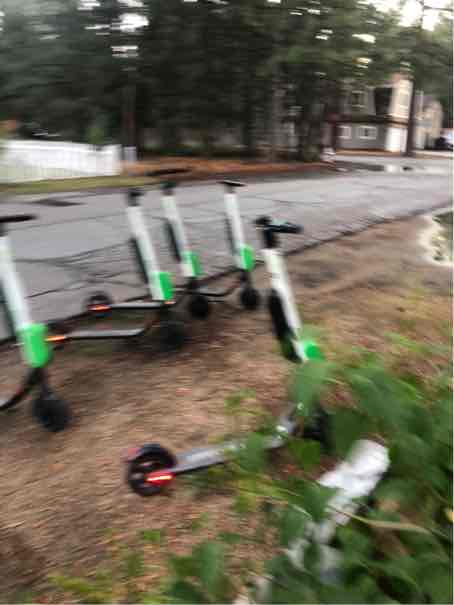scooter: (119, 206, 356, 496), (41, 181, 187, 359), (73, 173, 204, 323), (137, 168, 268, 305)
